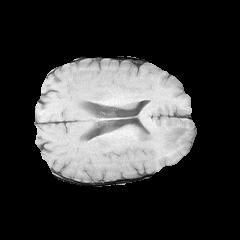glioma: (134, 104, 193, 151)
